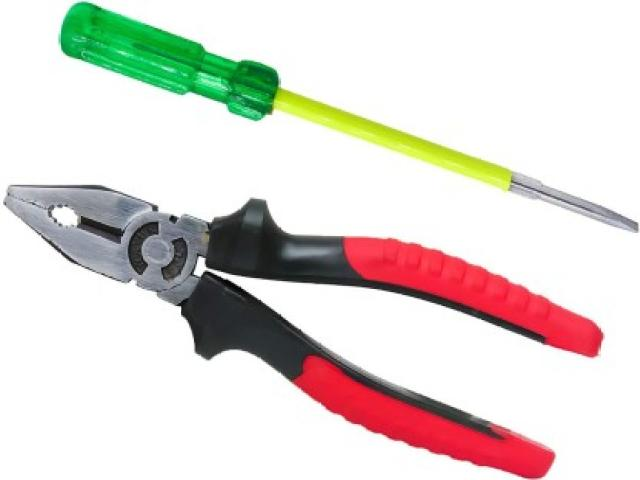Pliers: (5, 186, 602, 476)
Screwdriver: (60, 3, 638, 232)
